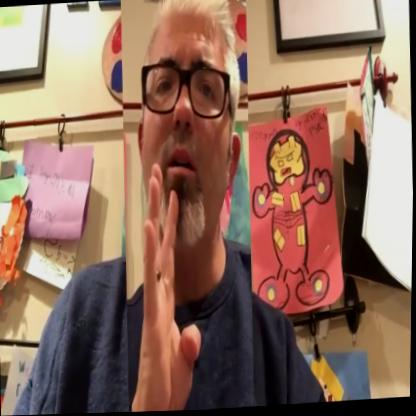Talk: (115, 0, 260, 413)
